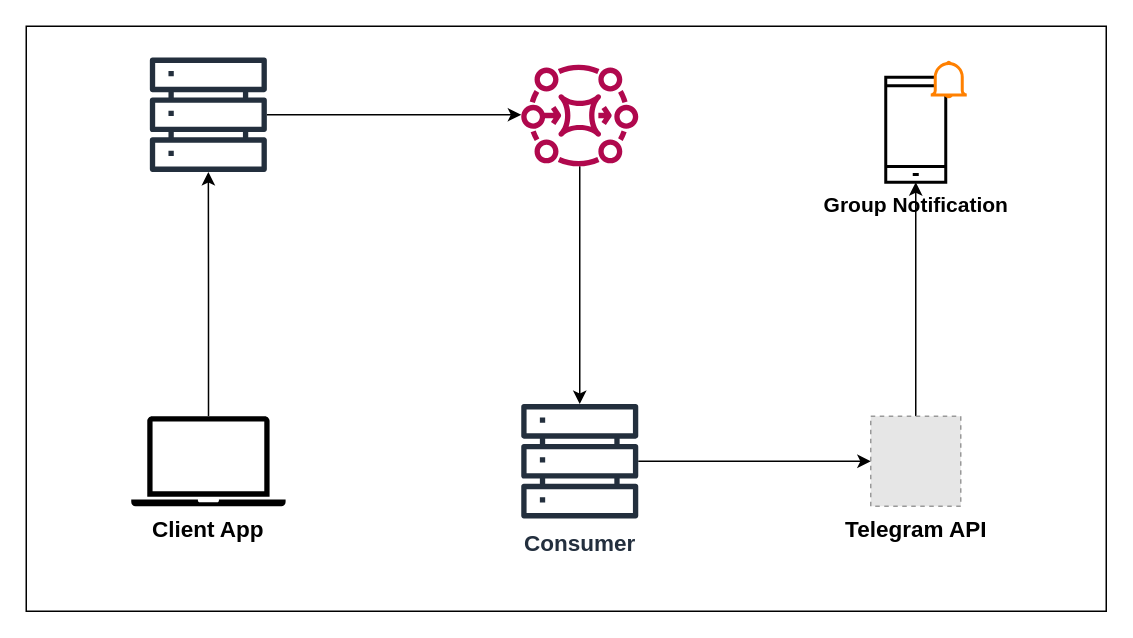
Image size: 1133x638. Some labels were removed from this diagram. Grey dashed boxes stand in for pictures. The centre of each missing label's shape, as x and y in pixels:
MQ Broker: point (579, 114)
Producer: point (207, 114)
